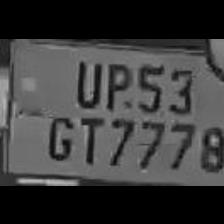3: (165, 60, 195, 112)
5: (132, 57, 164, 111)
7: (104, 112, 134, 168), (133, 113, 163, 169), (163, 116, 191, 170)
8: (196, 120, 220, 172)
G: (43, 111, 75, 161)
P: (100, 55, 132, 109)
T: (77, 111, 105, 165)
U: (70, 53, 102, 107)
